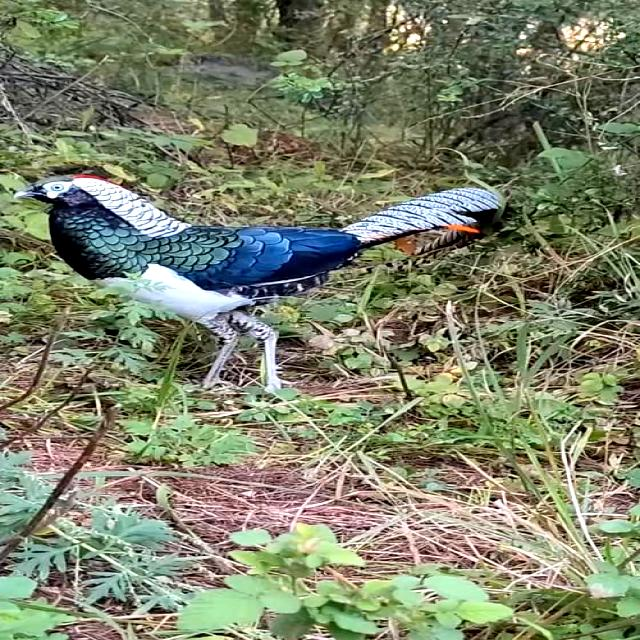Chrysolophus amherstiae: (340, 188, 500, 246)
